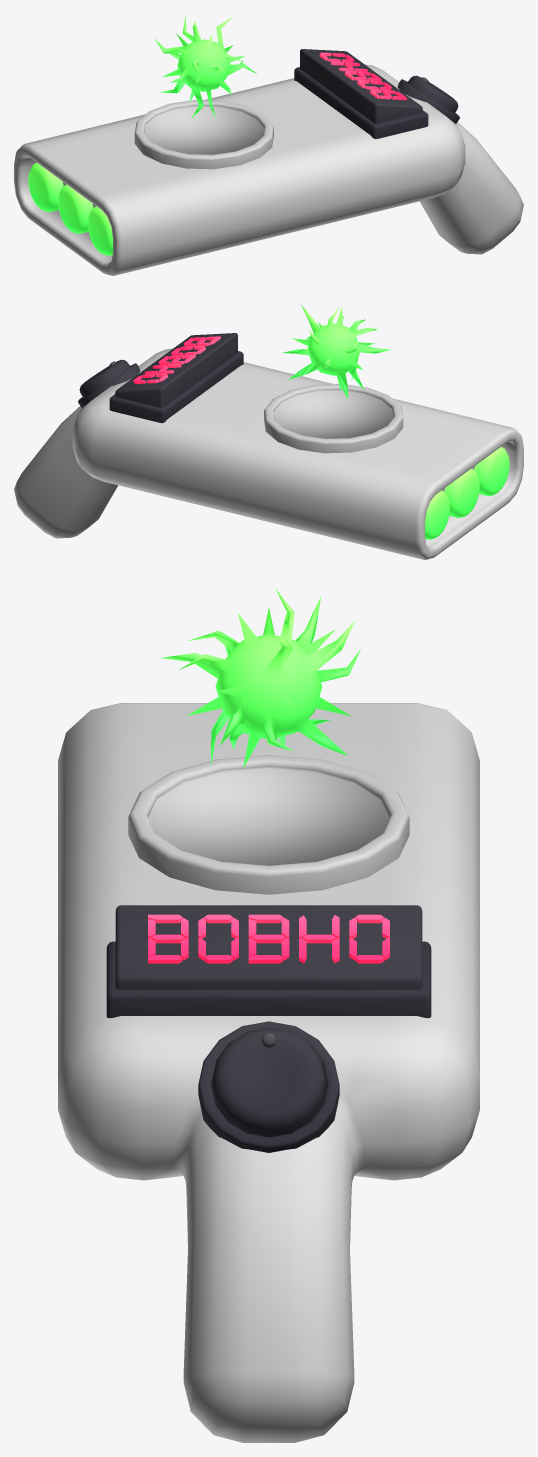
The model's file is gun2.glb.
The picture shows the model from 3 angles, top to bottom: view 1: azimuth 30°, elevation 25°; view 2: azimuth 150°, elevation 25°; view 3: azimuth 270°, elevation 25°; orthographic projection. The views are drawn at different scales.
Parts seen in each view (by area): view 1: Gun, CapsuleBase, TextBase, GreenGlowingStuff, FrontGlow, DialPad, Text; view 2: Gun, CapsuleBase, TextBase, GreenGlowingStuff, FrontGlow, DialPad, Text; view 3: Gun, CapsuleBase, TextBase, DialPad, GreenGlowingStuff, Text.
Boxes of the visible parts, x1=… form: Gun: x1=14, y1=64, x2=523, y2=275; CapsuleBase: x1=134, y1=100, x2=273, y2=169; TextBase: x1=294, y1=49, x2=428, y2=139; GreenGlowingStuff: x1=154, y1=14, x2=256, y2=119; FrontGlow: x1=28, y1=163, x2=112, y2=255; DialPad: x1=397, y1=75, x2=459, y2=123; Text: x1=319, y1=52, x2=406, y2=100; Gun: x1=14, y1=348, x2=523, y2=559; CapsuleBase: x1=264, y1=384, x2=403, y2=453; TextBase: x1=109, y1=333, x2=243, y2=423; GreenGlowingStuff: x1=282, y1=305, x2=390, y2=398; FrontGlow: x1=425, y1=447, x2=509, y2=539; DialPad: x1=78, y1=359, x2=140, y2=407; Text: x1=133, y1=336, x2=220, y2=383; Gun: x1=58, y1=703, x2=479, y2=1442; CapsuleBase: x1=128, y1=755, x2=409, y2=894; TextBase: x1=106, y1=905, x2=431, y2=1018; DialPad: x1=198, y1=1021, x2=339, y2=1152; GreenGlowingStuff: x1=161, y1=588, x2=360, y2=767; Text: x1=148, y1=914, x2=389, y2=963.
Size of what is drawn, in the model's own units: 0.259 by 0.1613 by 0.1055.
Materials: 1 (1 with a texture image).
